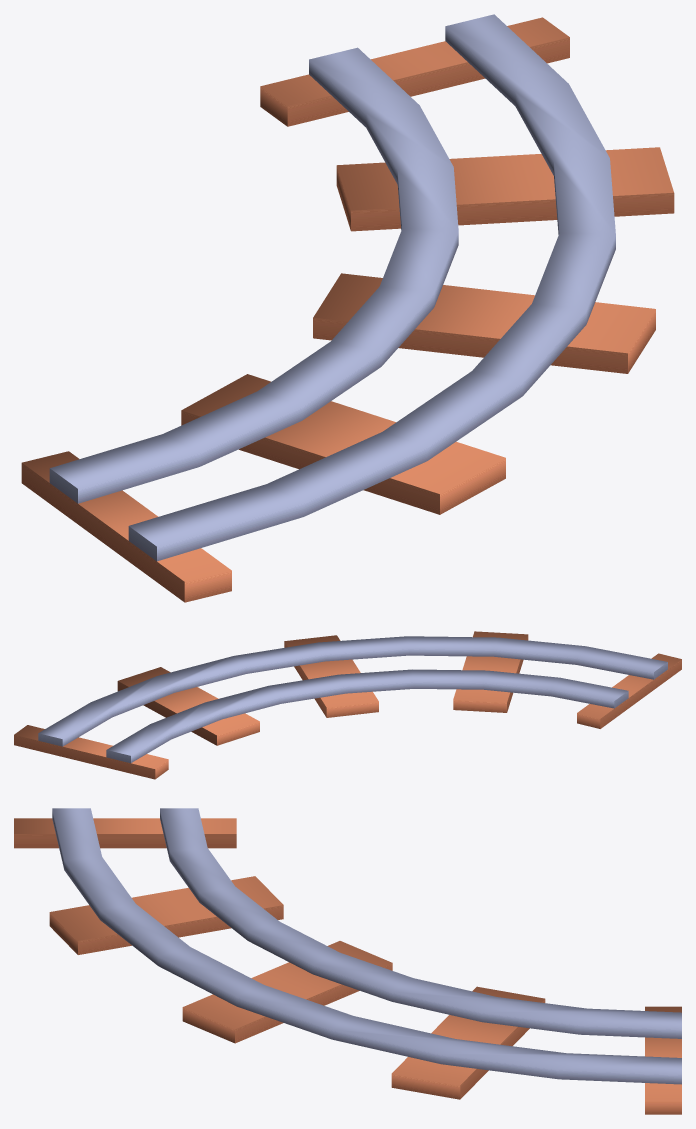
Rendered from trainset-rail-detailed-bend.glb.
The picture shows the model from 3 angles, top to bottom: view 1: azimuth 30°, elevation 25°; view 2: azimuth 150°, elevation 25°; view 3: azimuth 270°, elevation 25°; orthographic projection. The views are drawn at different scales.
Visible parts, largest first — view 1: trainset-rail-detailed-bend; view 2: trainset-rail-detailed-bend; view 3: trainset-rail-detailed-bend.
Boxes of the visible parts, x1,y1,x2,y2 form: trainset-rail-detailed-bend: [21, 14, 674, 602]; trainset-rail-detailed-bend: [14, 631, 681, 779]; trainset-rail-detailed-bend: [14, 808, 681, 1114].
Size of the model in its own units: 0.9 by 0.0361 by 0.9.
Materials: 1 (1 with a texture image).
